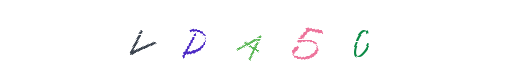5: (222, 0, 302, 80)
A: (204, 0, 284, 80)
C: (266, 0, 346, 80)
D: (199, 0, 279, 80)
V: (153, 0, 233, 80)
